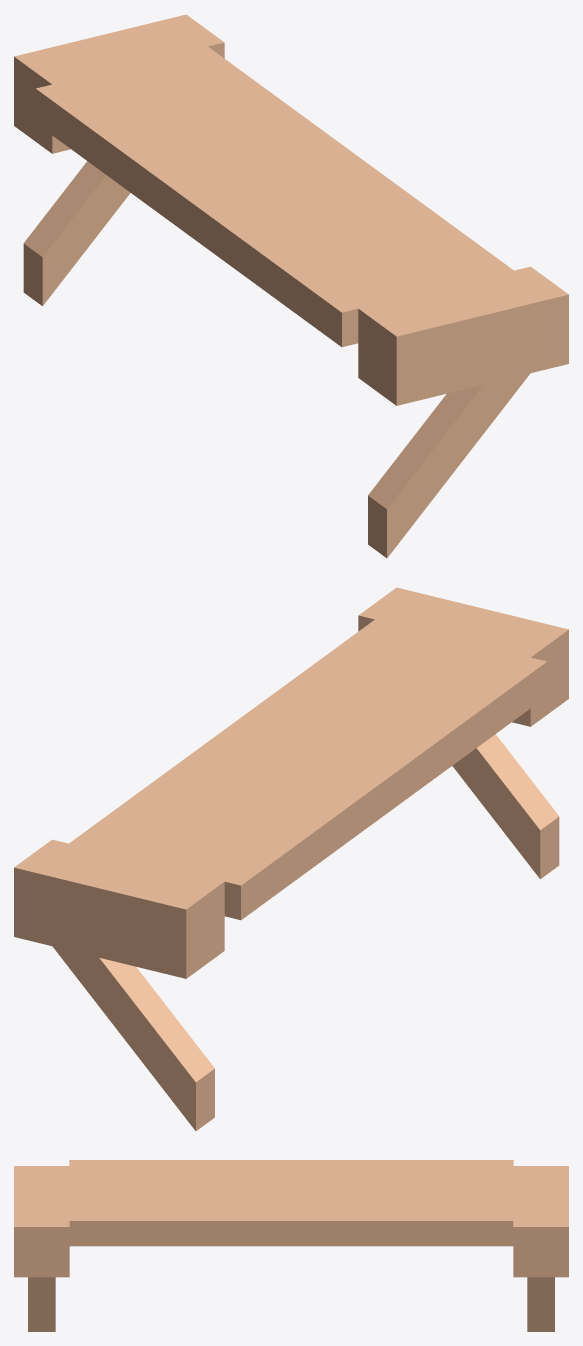
The model's file is overhang.glb.
The picture shows the model from 3 angles, top to bottom: view 1: azimuth 30°, elevation 25°; view 2: azimuth 150°, elevation 25°; view 3: azimuth 270°, elevation 25°; orthographic projection. The views are drawn at different scales.
Visible parts, largest first — view 1: overhang; view 2: overhang; view 3: overhang.
Boxes of the visible parts, left/top/right/bottom form: overhang: left=14, top=14, right=568, bottom=557; overhang: left=14, top=587, right=568, bottom=1130; overhang: left=14, top=1160, right=568, bottom=1331.
Bounding box in the file's own units: 0.285 × 0.33 × 1.
